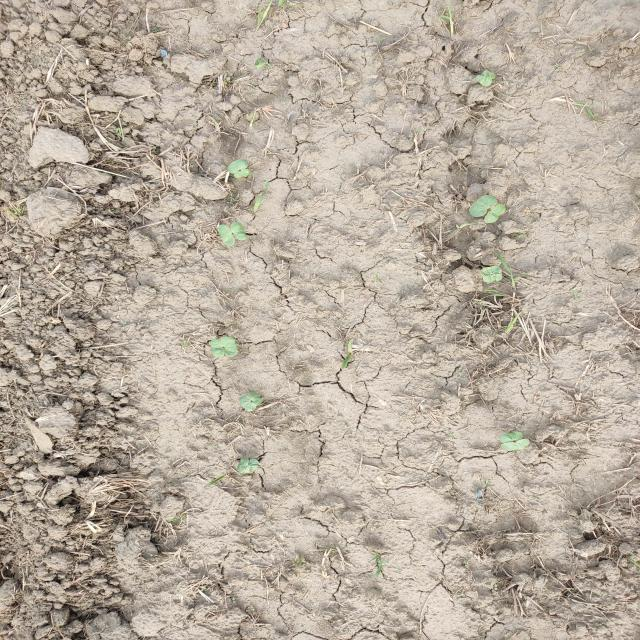seedling_s2: (469, 195, 497, 217), (484, 204, 505, 223), (218, 224, 235, 246), (221, 336, 238, 357), (501, 438, 529, 450), (227, 159, 248, 174), (238, 395, 256, 412), (231, 222, 247, 240), (210, 339, 225, 357), (500, 432, 523, 443), (481, 266, 501, 277), (244, 459, 259, 473), (476, 75, 493, 87), (248, 392, 263, 405), (483, 273, 502, 283), (234, 169, 252, 179), (237, 458, 249, 473), (482, 70, 496, 79)
